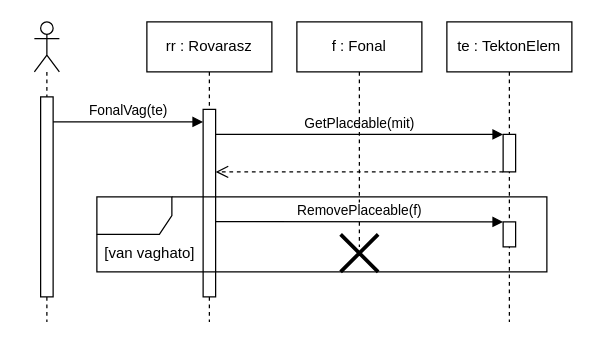
This 594x344 diagram has some shape labels left out. Here are the shapes that lost their labels. From the top down, the box of each, then its label:
(33, 21, 59, 322): Játékos
(96, 196, 547, 272): opt
